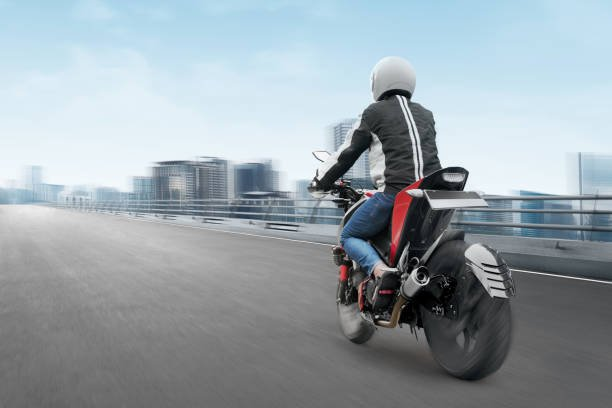motor: (318, 187, 523, 379)
